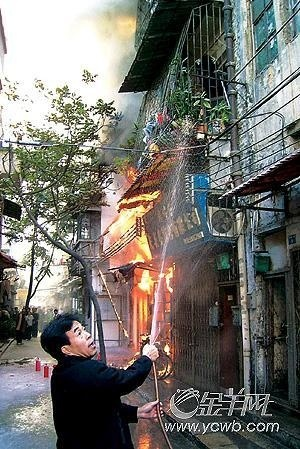fire: (99, 177, 178, 368)
